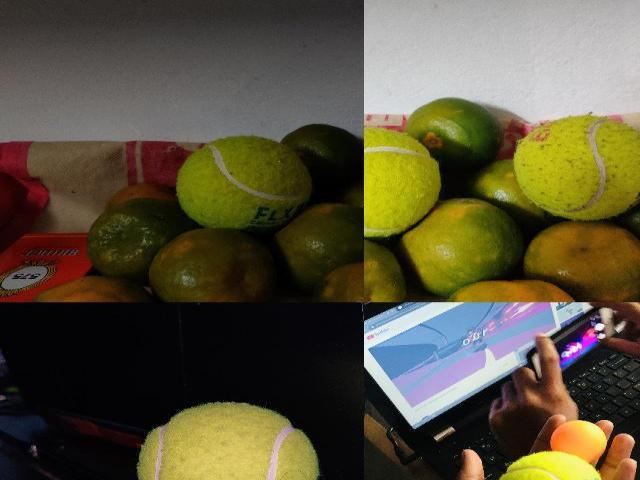tennis-ball: (135, 403, 320, 479), (512, 114, 639, 220), (175, 135, 314, 227), (364, 126, 441, 232), (496, 451, 605, 479)
